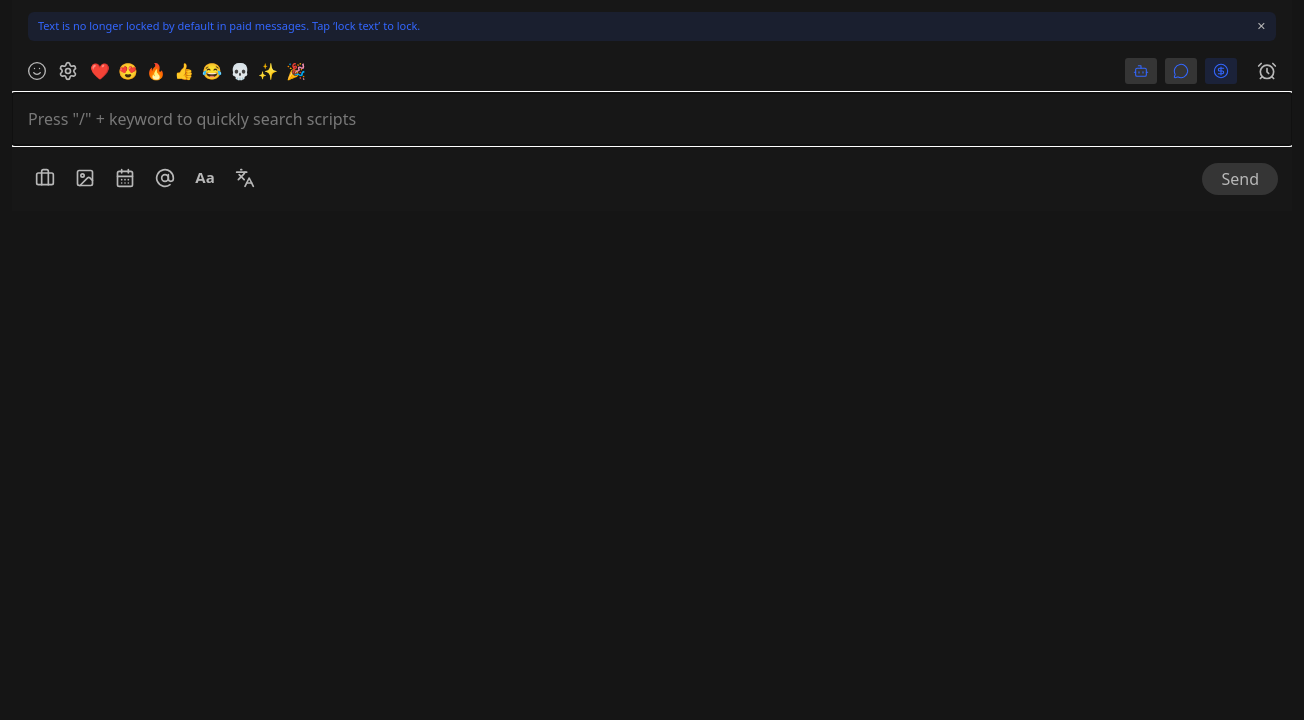
it: Composer toolbar: GIF and tags › "More" › "Add a tag" › "Release form" is disabled, titled "not wired: <excuse>"
Click the button named "Tag other Creators": click(165, 178) left=148, top=160, right=182, bottom=194
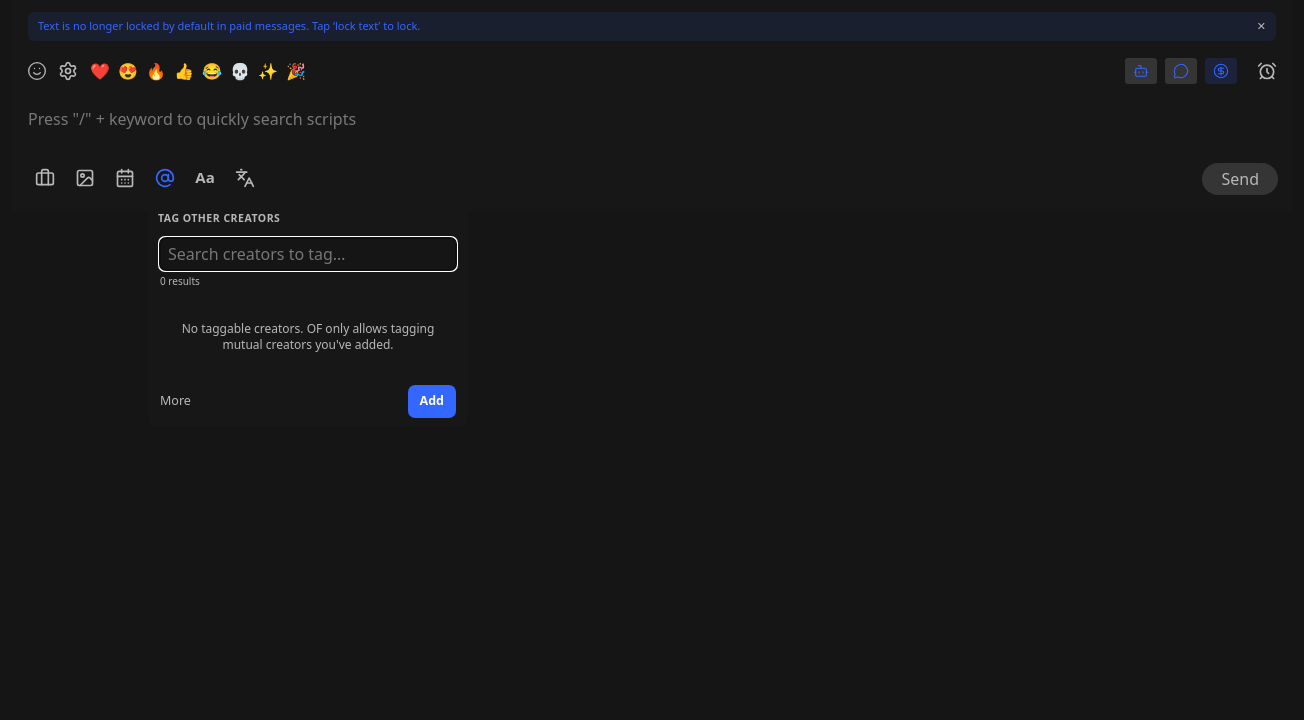
expect the button "Release form" is not shown: met
Click the button "More": click(175, 402) left=160, top=392, right=191, bottom=411
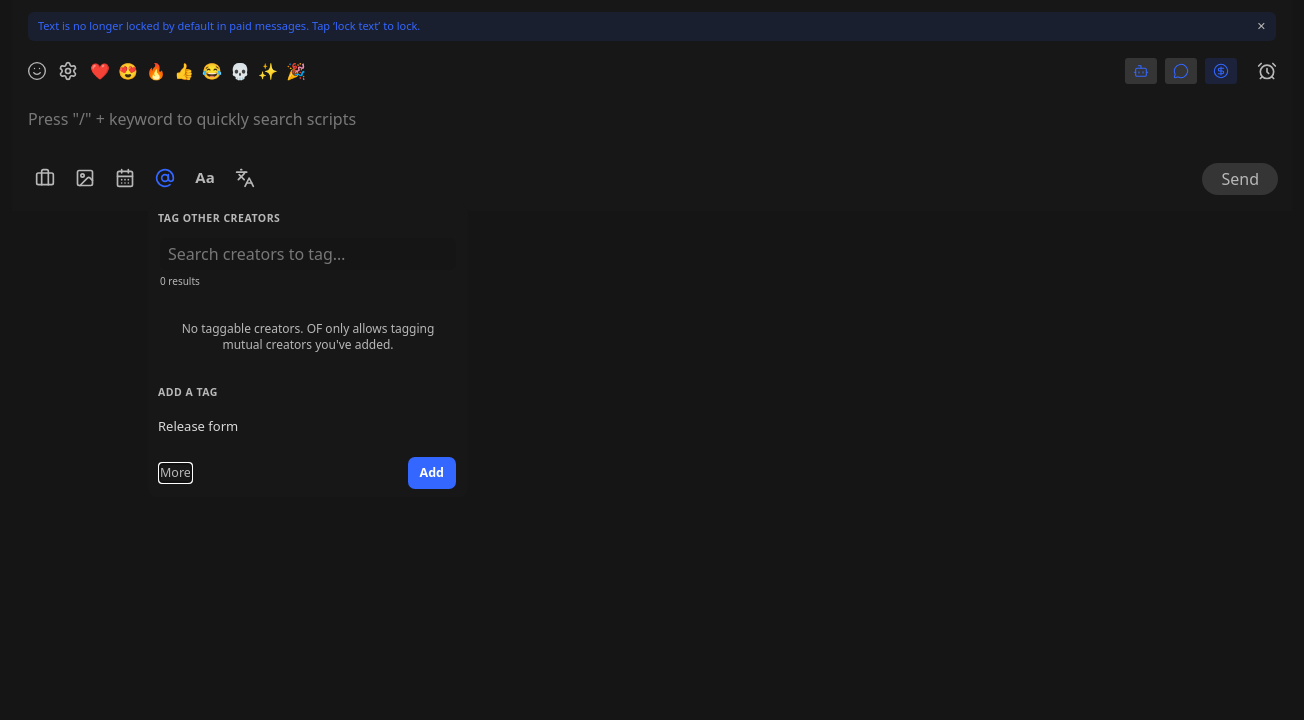
expect the button "Release form" is disabled: met, box left=148, top=405, right=468, bottom=448
